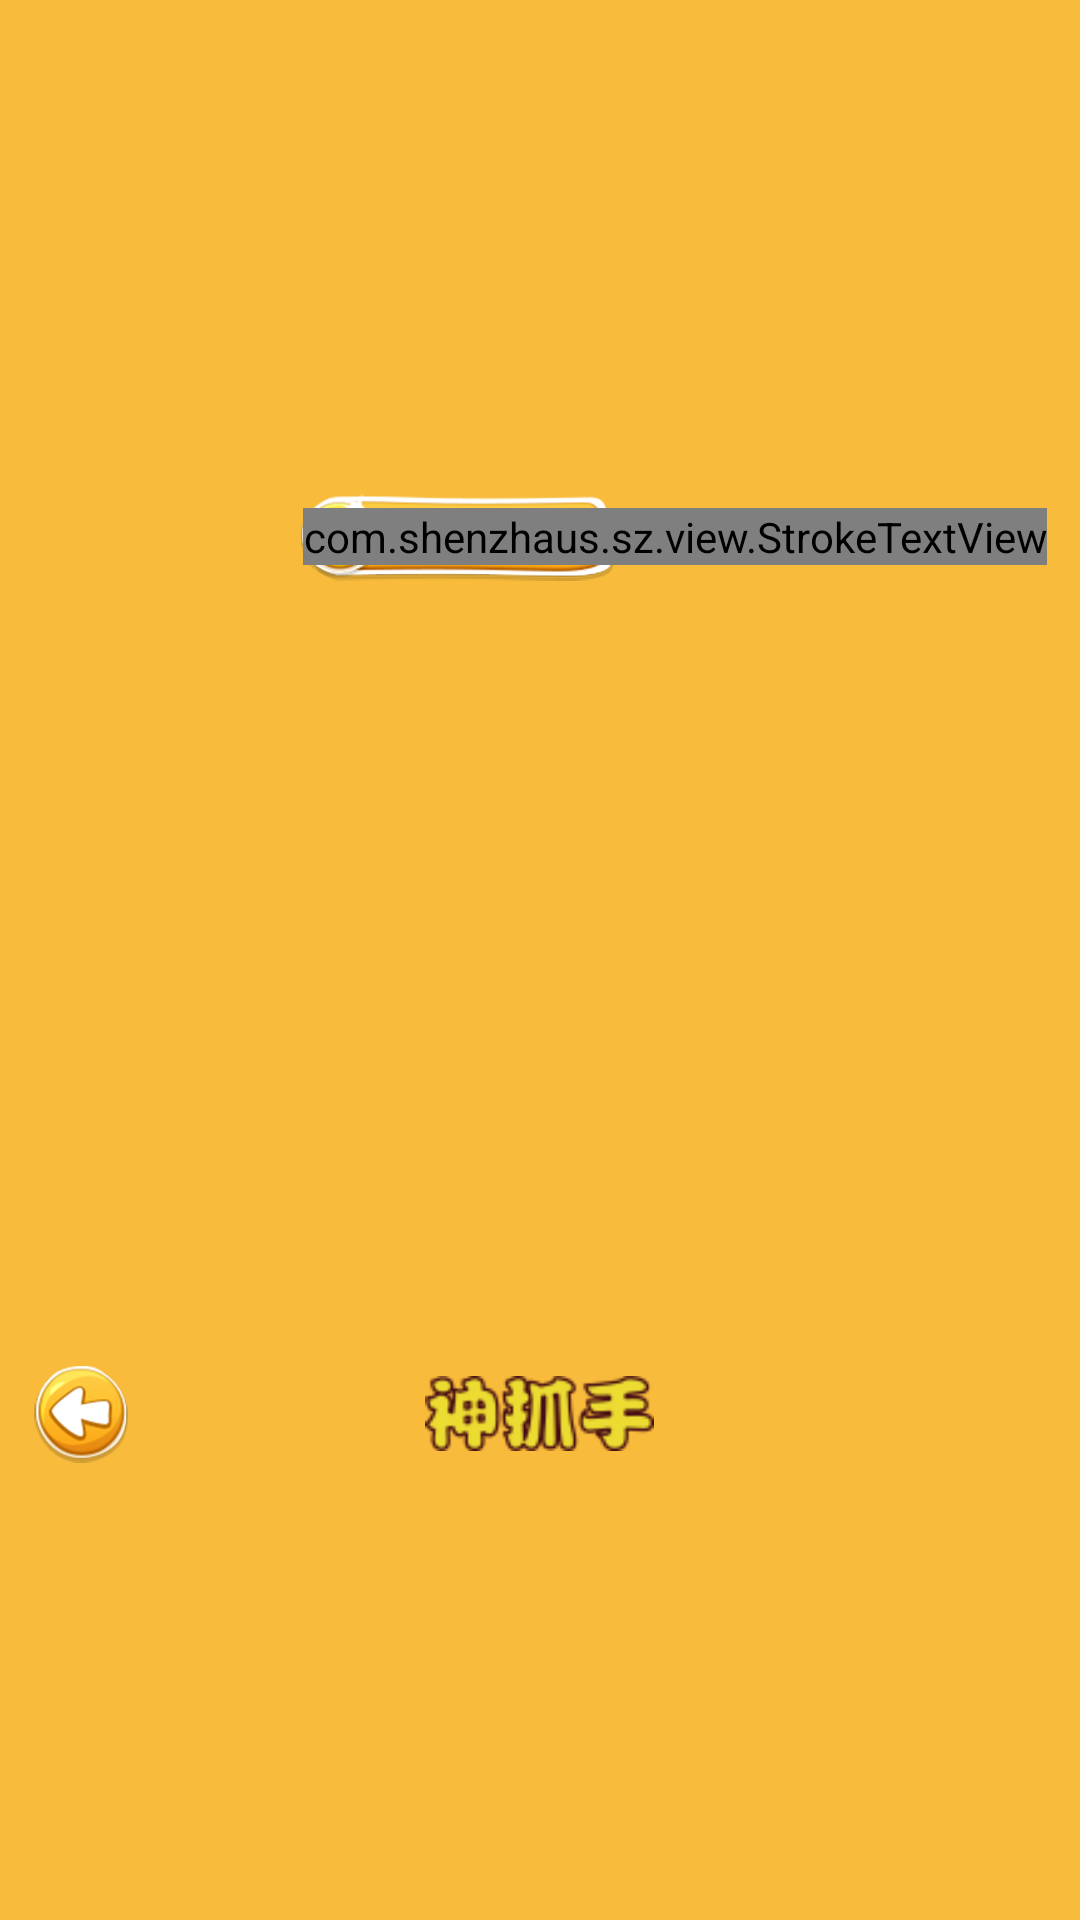

Icon click points for this 1080x1920 phone screenshot, format (x=x, y=y):
player back: (x=81, y=1414)
